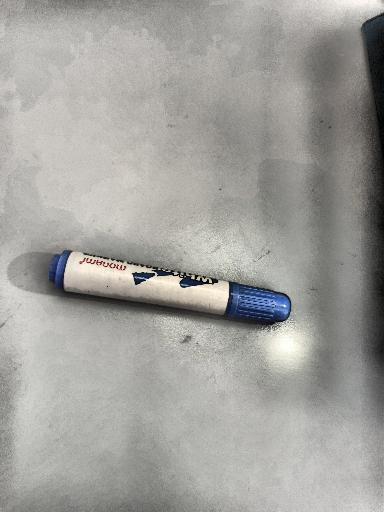marcador azul: (48, 251, 291, 322)
